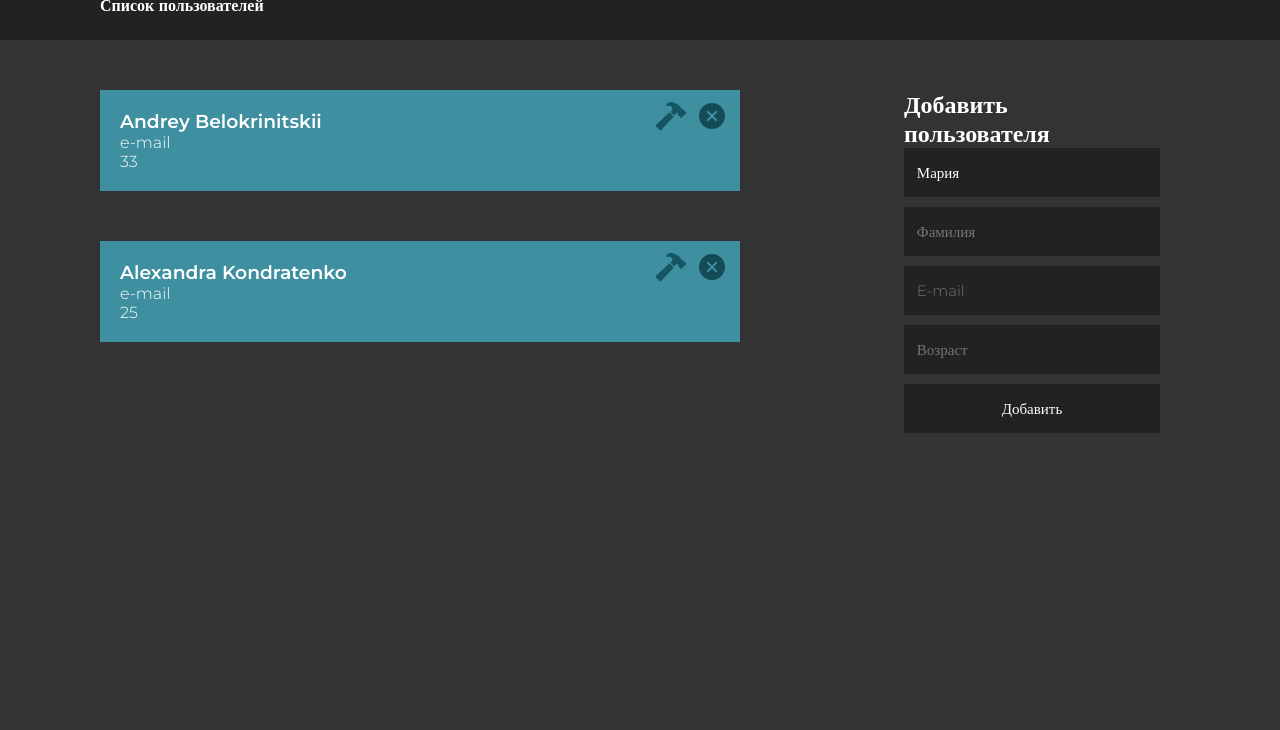
adds, edits, and deletes a user
The image size is (1280, 730).
Earlier steps of the test are not shown.
Type "Иванова" into the field labelled "Фамилия". click: [1032, 232]
box: [904,207,1160,256]
Type "maria@example.com" into the field labelled "E-mail". click: [1032, 290]
box: [904,266,1160,315]
Type "30" into the number field labelled "Возраст". click: [1032, 350]
box: [904,325,1160,374]
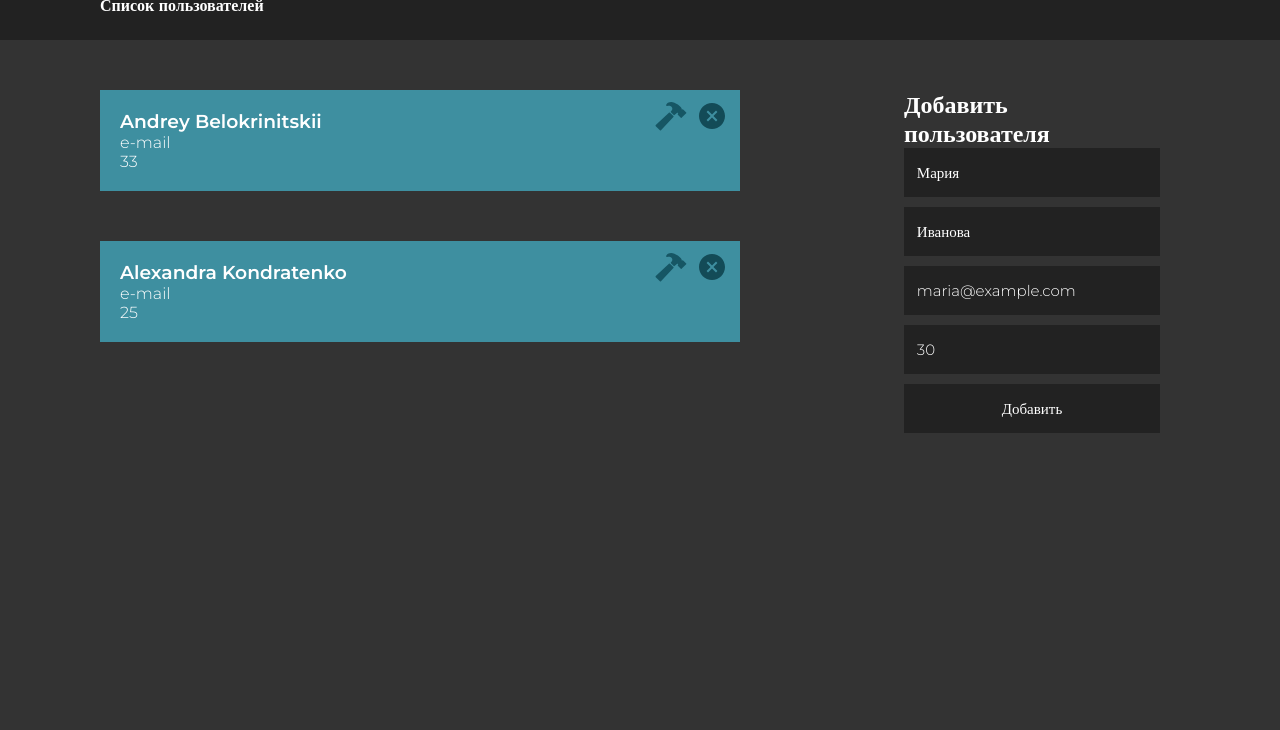
Click the button "Добавить". click: [1032, 408]
box: [904,384,1160,433]
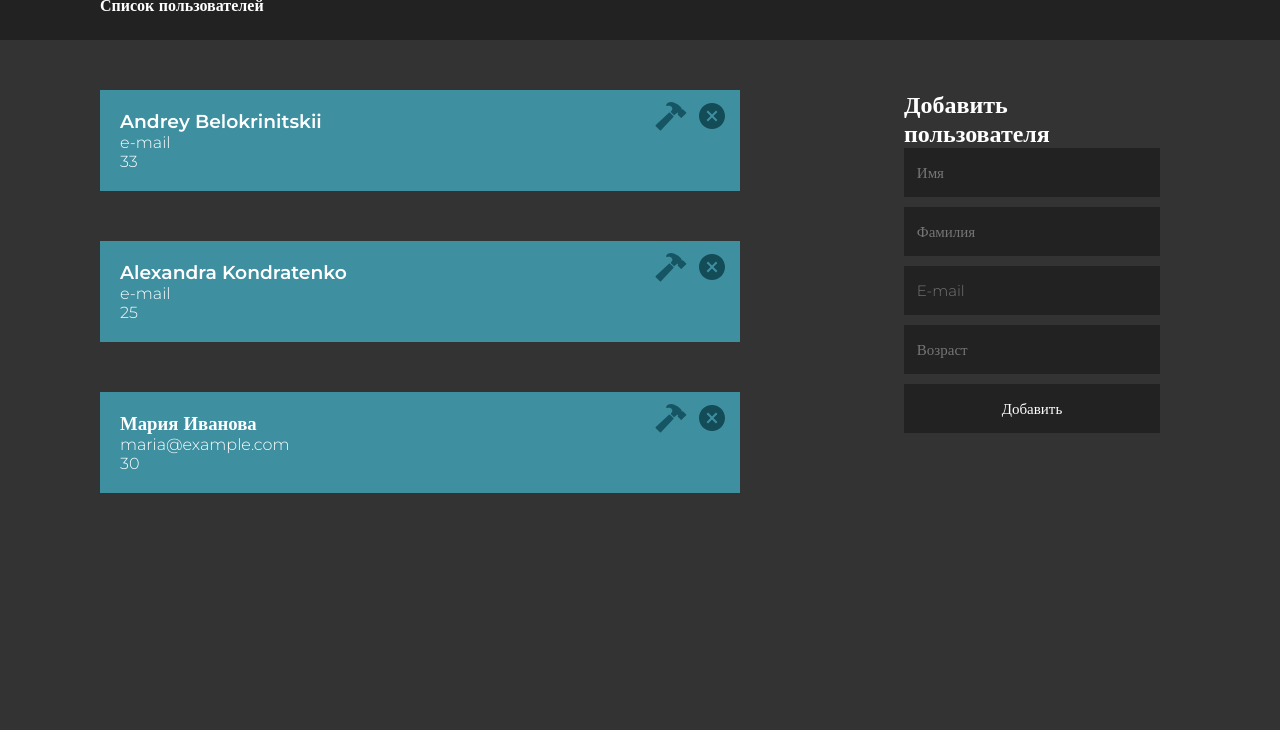
Expected: the heading "Мария Иванова" is shown, [120,412,257,435]
Click the button named "Редактировать Мария". click: [671, 422]
box: [655,402,687,442]
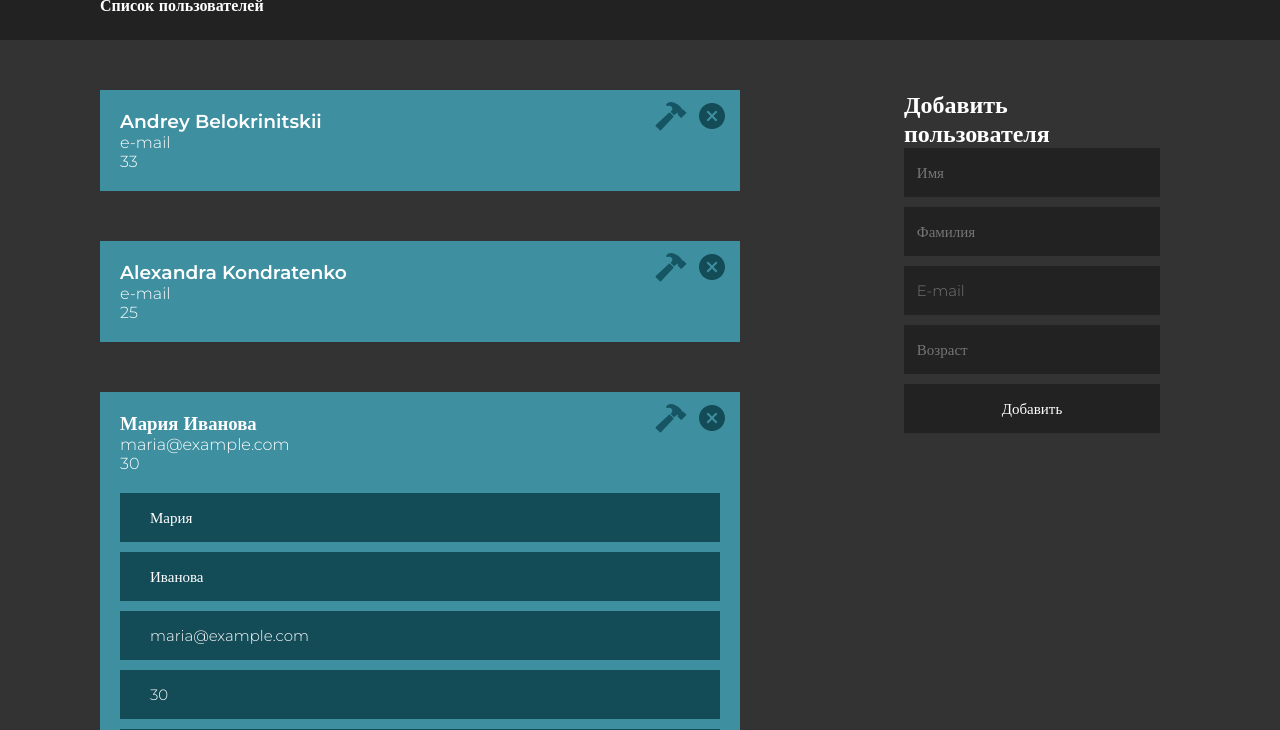
Replace the text in the number field named "Возраст" with "31". click: [420, 694]
box: [120,670,720,719]
(page scrolled)
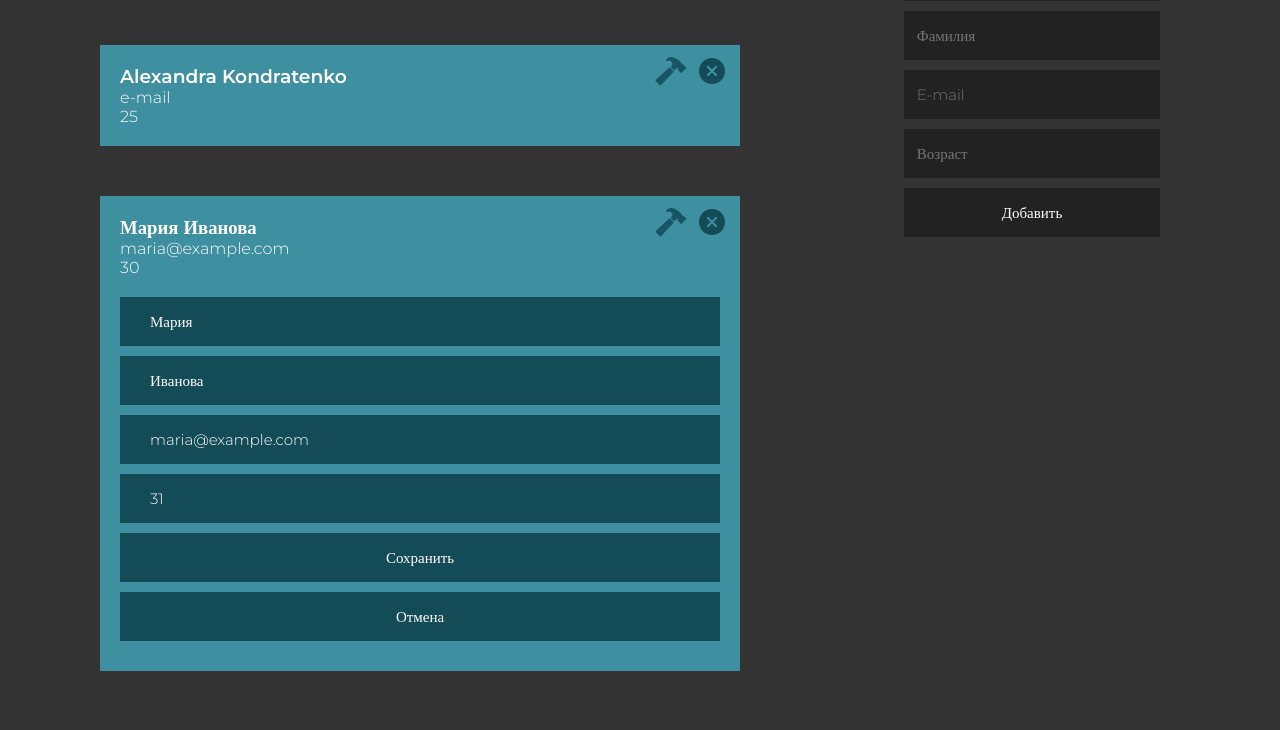
Click the button "Сохранить". click: [420, 558]
box: [120,533,720,582]
(page scrolled)
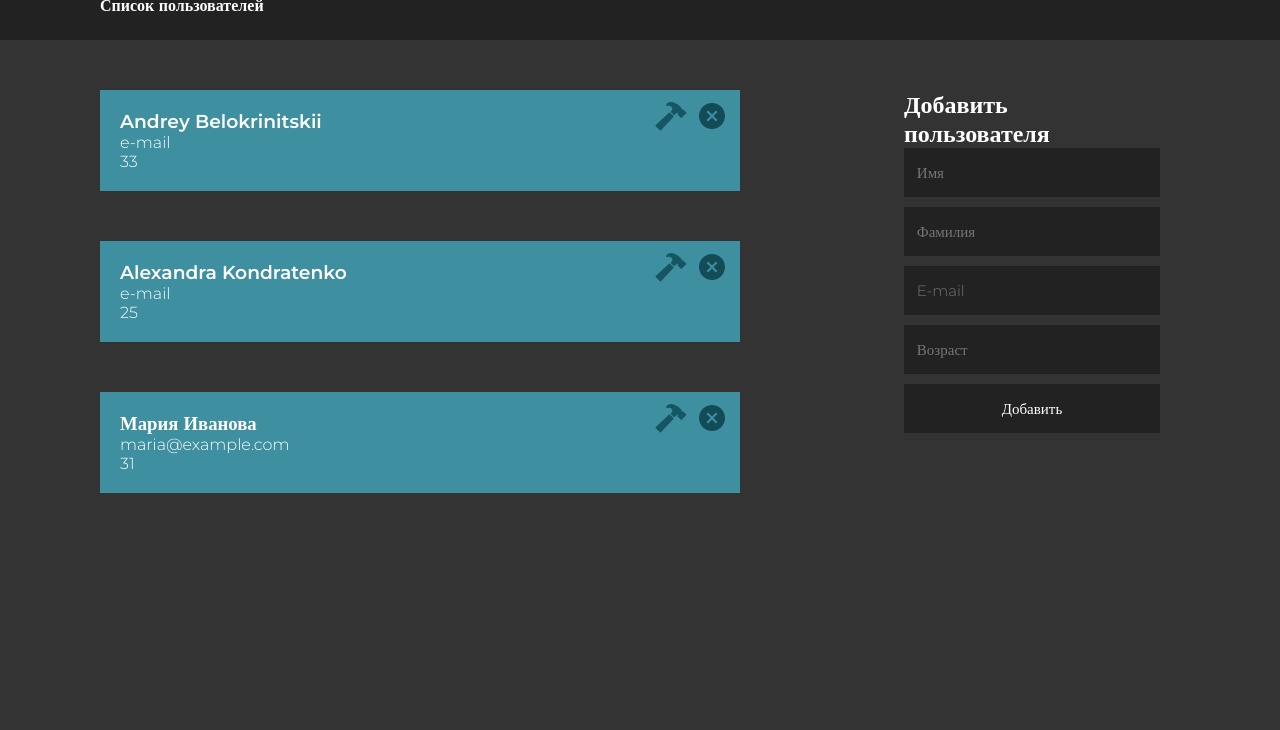
Expected: the text "31" is shown, [120,454,135,473]
Click the button named "Удалить Мария". click: [712, 422]
box: [696,402,728,442]
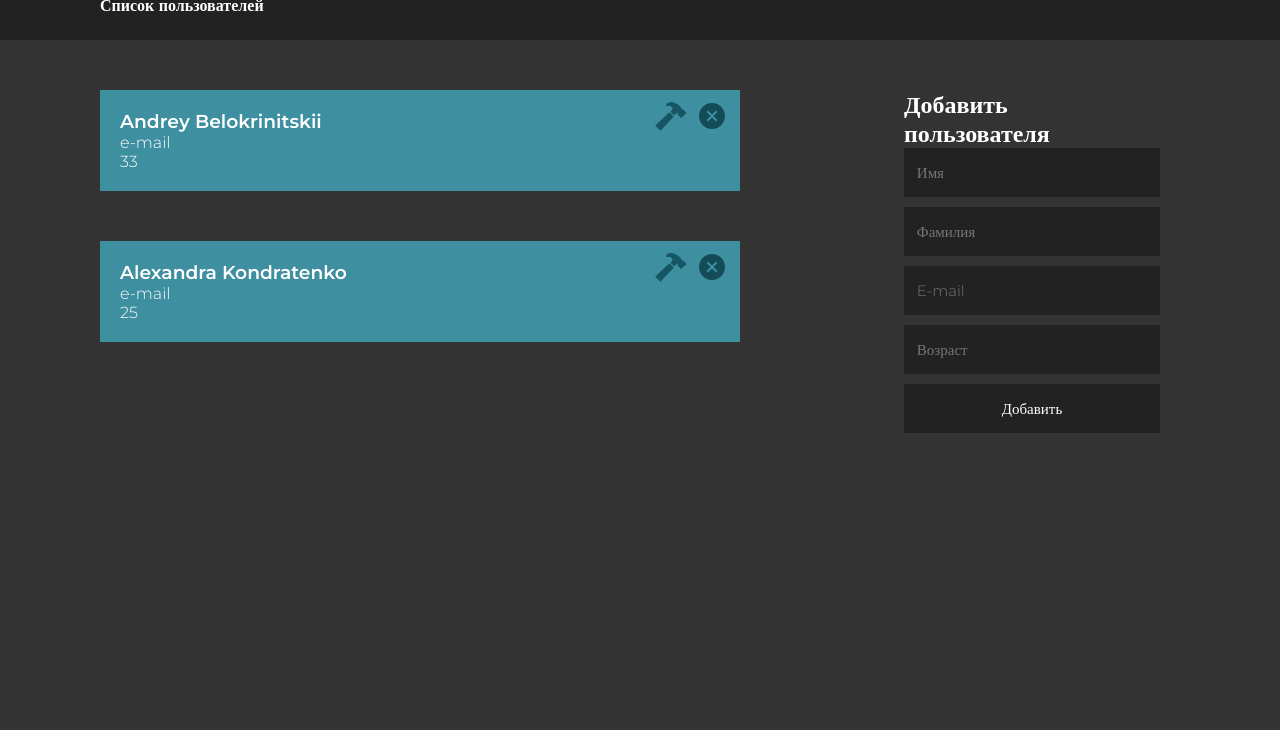
Expected: the heading "Мария Иванова" is gone
